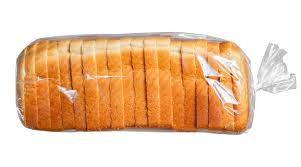bread: (5, 25, 285, 140)
